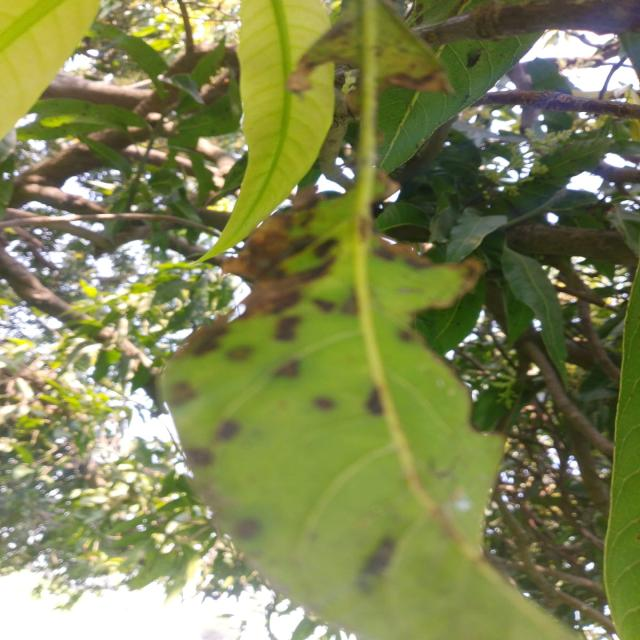Anthracnose: (229, 238, 326, 331), (178, 332, 331, 389), (363, 526, 418, 570), (219, 416, 248, 444), (192, 442, 216, 469), (171, 382, 196, 401)
